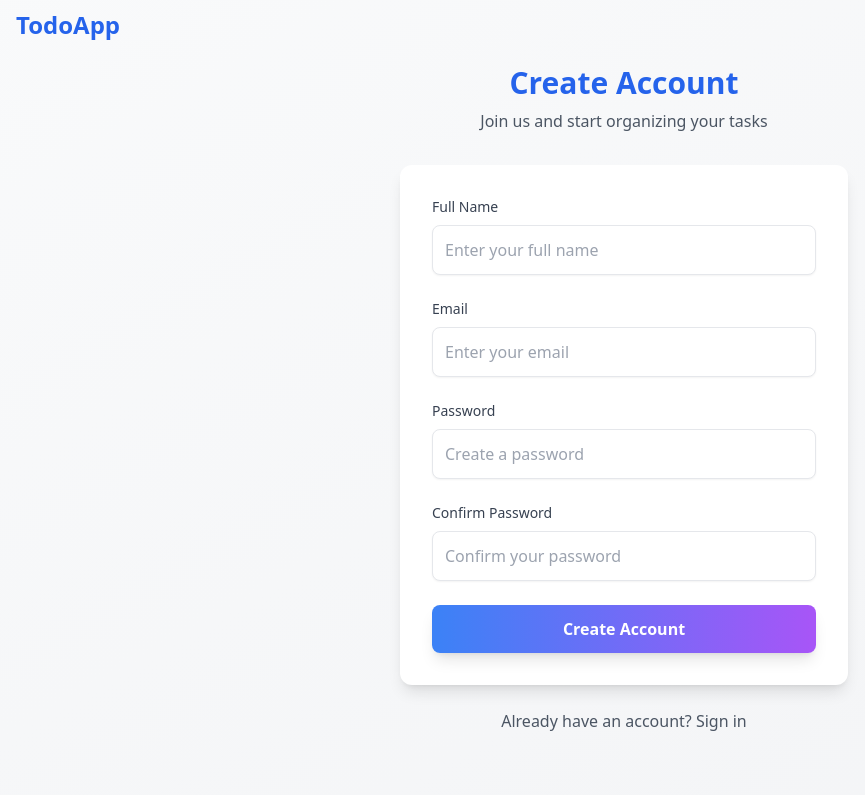
Test: SignUpPage › shows validation errors for invalid input
Click the button "Create Account". click: point(624, 629)
box: [432, 605, 816, 653]
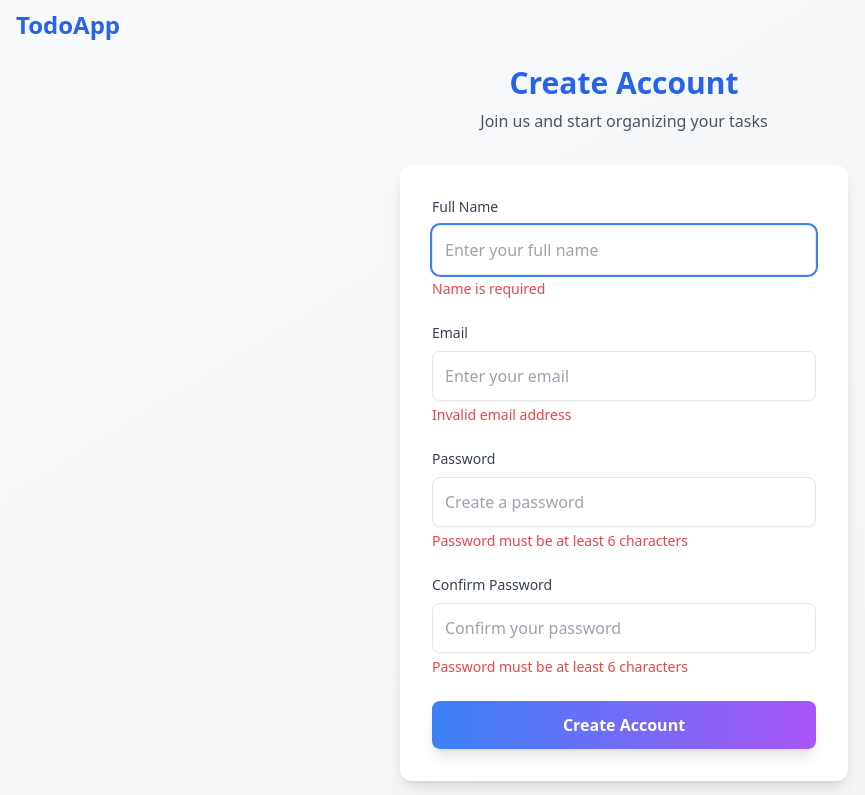
Now the text "Name is required" is shown, box [432, 279, 545, 298]
Now the text "Invalid email address" is shown, box [432, 405, 571, 424]
Now the text "Password must be at least 6 characters" is shown 2 times, box [432, 531, 688, 550]; [432, 657, 688, 676]
